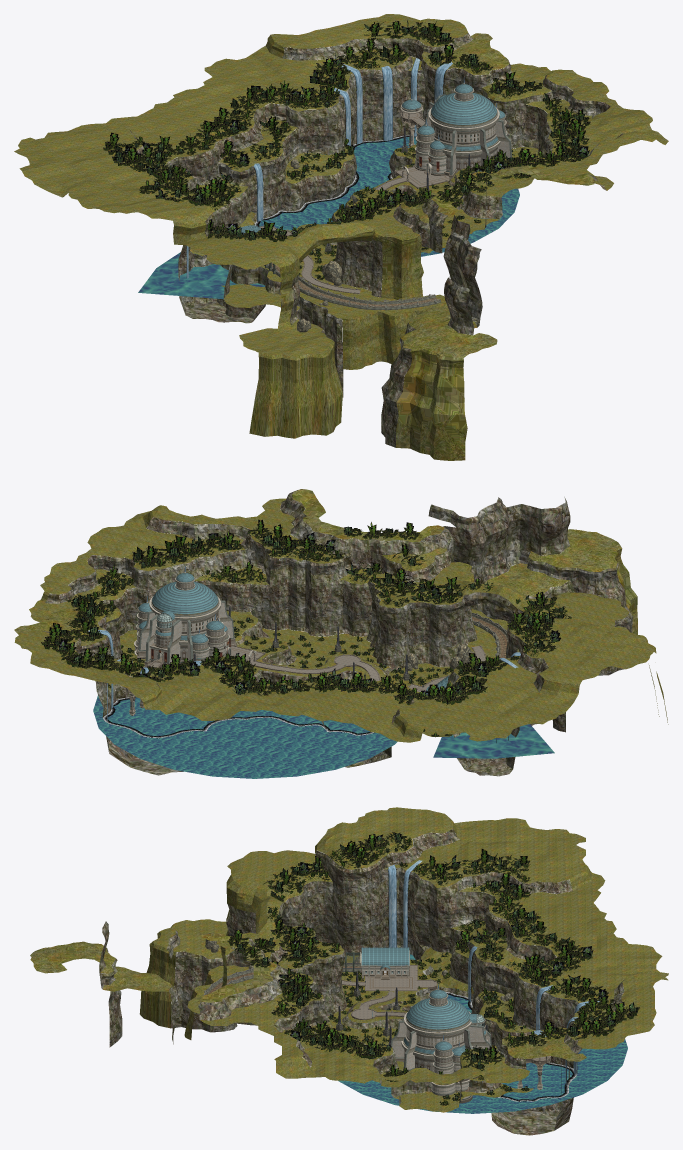
File: Karel.glb
3 views of the same model, one above another, from view 1: azimuth 30°, elevation 25°; view 2: azimuth 150°, elevation 25°; view 3: azimuth 270°, elevation 25° (orthographic). The views are drawn at different scales.
Visible parts, largest first — view 1: base031, polySurface959, temp5_sea00, polySurface968, polySurface967, oc_house2, oc_house, sea00, polySurface966, polySurface969, oc_roof, polySurface970 (+7 smaller); view 2: base031, temp5_sea00, polySurface967, polySurface959, polySurface968, polySurface966, oc_house2, oc_house, sea00, oc_roof, polySurface969, polySurface970 (+10 smaller); view 3: base031, temp5_sea00, polySurface959, polySurface967, polySurface968, oc_house, oc_roof, oc_house2, polySurface969, polySurface966, base035, polySurface970 (+8 smaller).
Boxes of the visible parts, x1,y1,x2,y2 form: base031: [14, 14, 668, 460]; polySurface959: [140, 80, 339, 165]; temp5_sea00: [229, 137, 519, 256]; polySurface968: [309, 20, 493, 90]; polySurface967: [458, 70, 590, 181]; oc_house2: [400, 76, 512, 181]; oc_house: [402, 93, 510, 173]; sea00: [138, 252, 274, 299]; polySurface966: [327, 171, 491, 224]; polySurface969: [139, 178, 303, 241]; oc_roof: [241, 84, 505, 234]; polySurface970: [103, 132, 191, 188]; base031: [14, 489, 668, 742]; temp5_sea00: [93, 656, 397, 778]; polySurface967: [68, 519, 343, 616]; polySurface959: [199, 647, 453, 704]; polySurface968: [41, 606, 200, 682]; polySurface966: [343, 522, 493, 606]; oc_house2: [125, 565, 256, 715]; oc_house: [135, 582, 233, 667]; sea00: [433, 724, 554, 758]; oc_roof: [138, 573, 448, 691]; polySurface969: [507, 592, 571, 660]; polySurface970: [416, 653, 507, 705]; base031: [30, 807, 668, 1112]; temp5_sea00: [338, 988, 627, 1113]; polySurface959: [469, 872, 593, 986]; polySurface967: [271, 968, 503, 1082]; polySurface968: [504, 972, 639, 1047]; oc_house: [361, 966, 490, 1099]; oc_roof: [362, 947, 486, 1055]; oc_house2: [359, 950, 550, 1103]; polySurface969: [263, 832, 412, 901]; polySurface966: [227, 907, 340, 977]; base035: [491, 1097, 573, 1135]; polySurface970: [413, 849, 530, 885].
Bounding box in the file's own units: 615 × 192 × 666.
77 materials, 77 textured.
